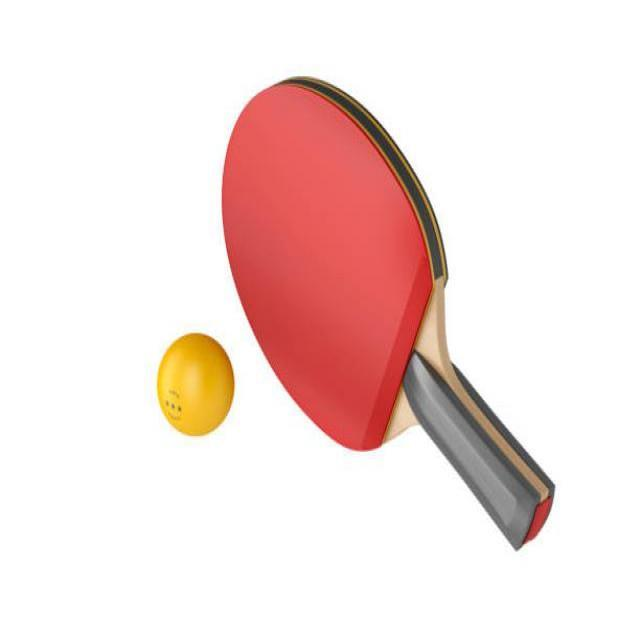oball: (158, 333, 235, 438)
